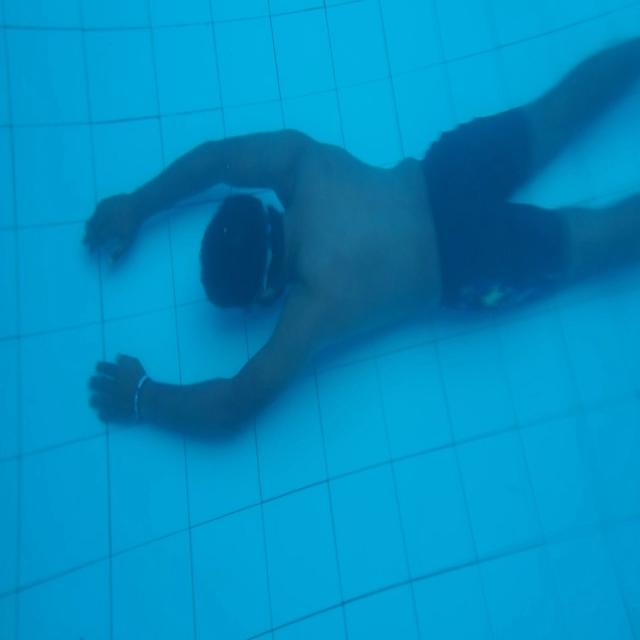drowning: (48, 32, 624, 446)
